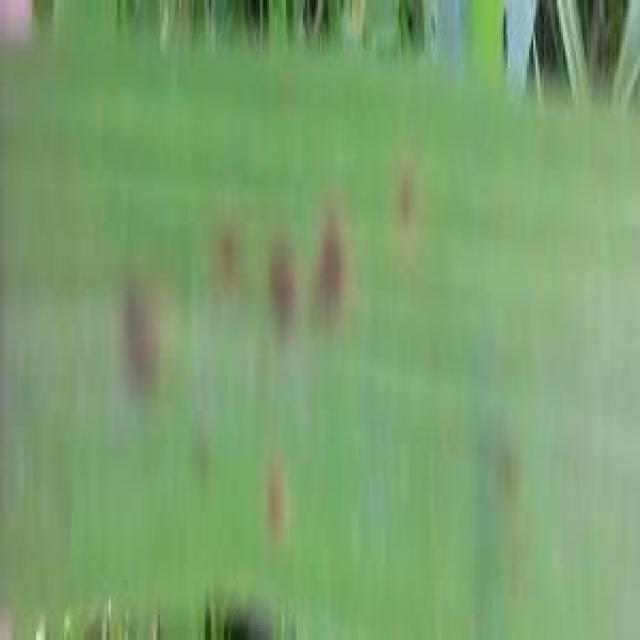brownspots: (98, 273, 173, 403), (245, 452, 308, 546), (256, 236, 305, 340), (309, 213, 352, 331), (386, 168, 424, 230)
